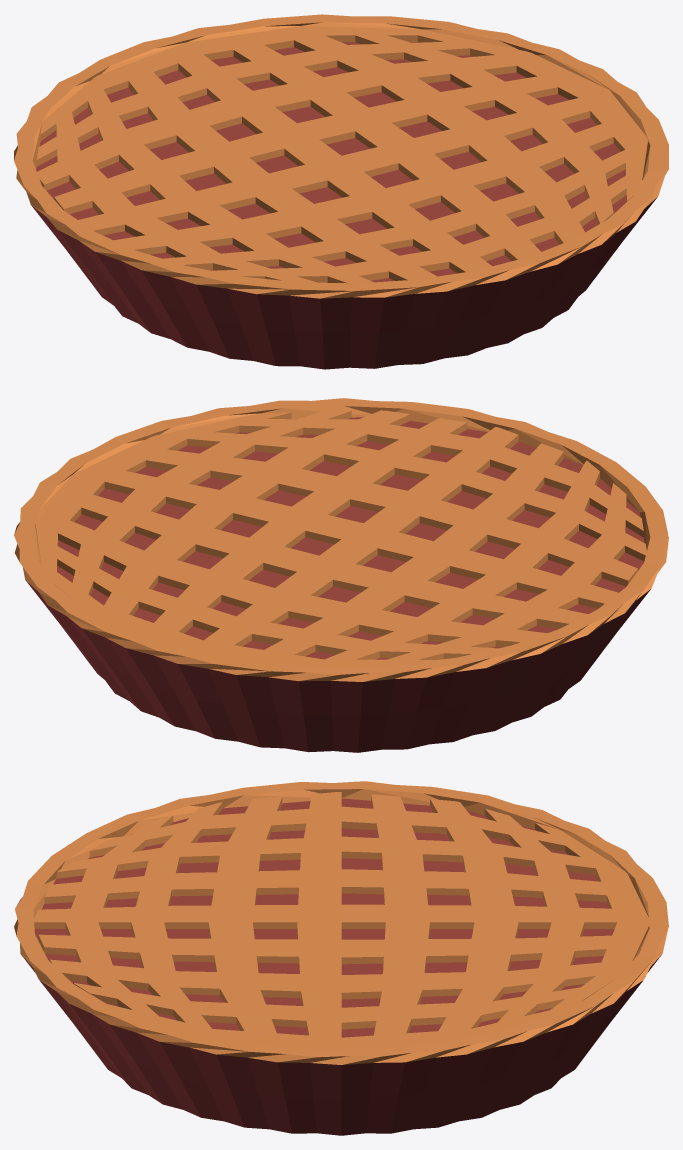
Rendered from apple_pie.gltf.
3 renders of one model, top to bottom at view 1: azimuth 30°, elevation 25°; view 2: azimuth 150°, elevation 25°; view 3: azimuth 270°, elevation 25°, orthographic.
Visible parts, largest first — view 1: Cylinder.003; view 2: Cylinder.003; view 3: Cylinder.003.
Boxes of the visible parts, x1,y1,x2,y2 form: Cylinder.003: [14, 14, 668, 369]; Cylinder.003: [14, 398, 668, 752]; Cylinder.003: [14, 781, 668, 1135].
Bounding box in the file's own units: 0.965 × 0.1785 × 0.965.
Materials: 3 (3 with a texture image).
